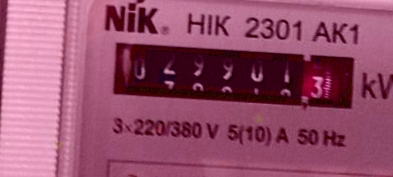0: (130, 53, 149, 81), (249, 54, 266, 84)
1: (280, 56, 294, 84)
2: (160, 49, 180, 77)
3: (308, 72, 326, 99)
9: (190, 51, 208, 79), (221, 54, 235, 81)
screen: (103, 31, 367, 120)
